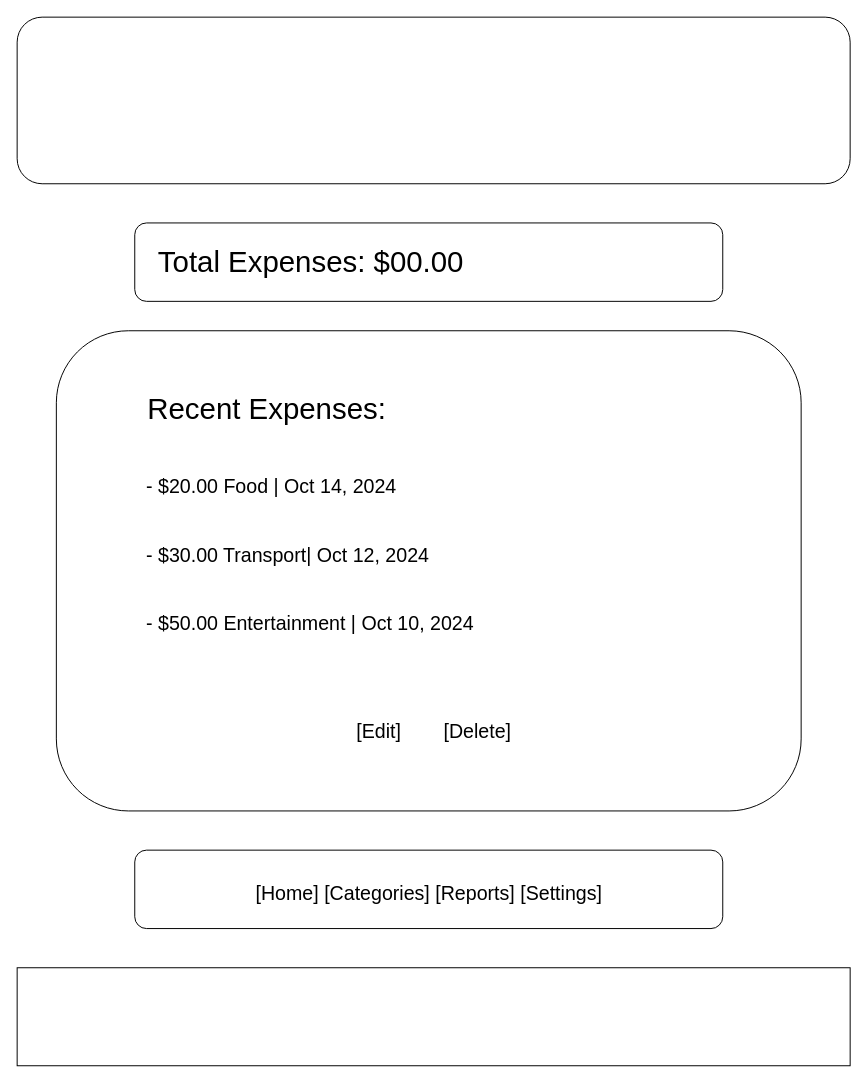
Some shapes in this 867 by 1083 pixel diagram are drawn without their labels. Each missing label, with the centre of its shape:
"Lorem Ipsum" goes at (x=433, y=1016).
"TrackIt" goes at (x=433, y=100).
